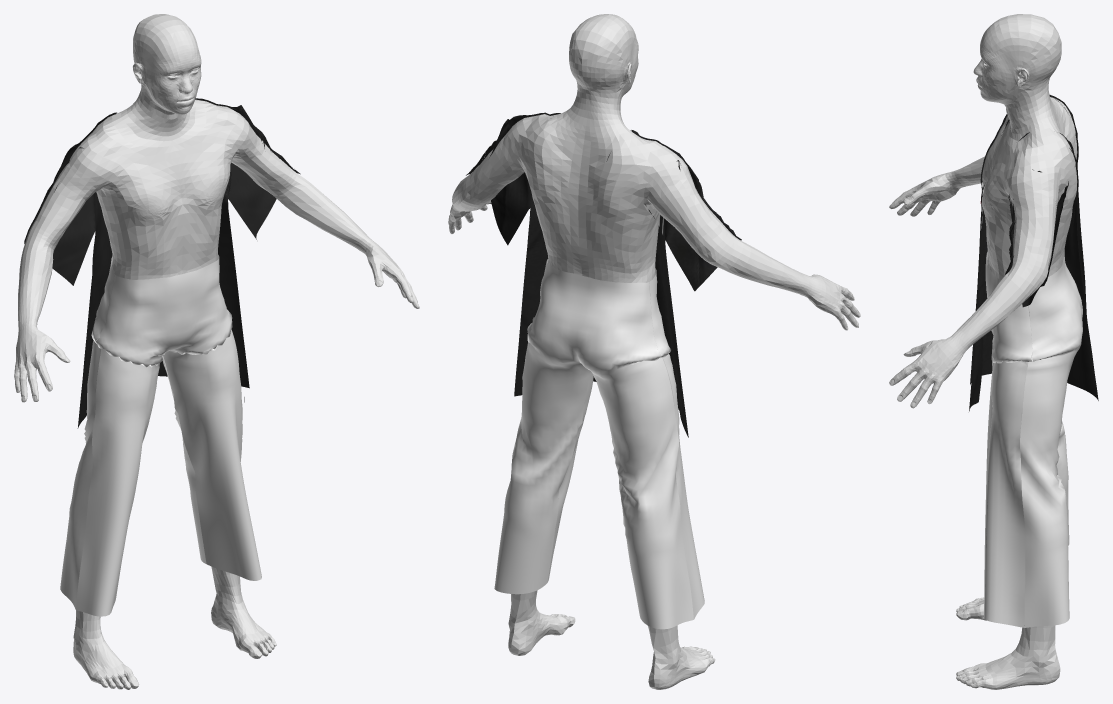
File: 1645943822693result.glb
3 views of the same model, side by side, from view 1: azimuth 30°, elevation 25°; view 2: azimuth 150°, elevation 25°; view 3: azimuth 270°, elevation 25° (orthographic).
Visible parts, largest first — view 1: makehuman_1.1-2021-12-29T14:18:15.898Z, Plane_Plane.003, top(black)_XL_Plane.007; view 2: Plane_Plane.003, makehuman_1.1-2021-12-29T14:18:15.898Z, top(black)_XL_Plane.007; view 3: makehuman_1.1-2021-12-29T14:18:15.898Z, Plane_Plane.003, top(black)_XL_Plane.007.
Boxes of the visible parts, left/top/right/bottom form: makehuman_1.1-2021-12-29T14:18:15.898Z: left=14, top=14, right=419, bottom=689; Plane_Plane.003: left=60, top=254, right=261, bottom=616; top(black)_XL_Plane.007: left=24, top=98, right=300, bottom=428; Plane_Plane.003: left=494, top=259, right=704, bottom=629; makehuman_1.1-2021-12-29T14:18:15.898Z: left=448, top=14, right=860, bottom=689; top(black)_XL_Plane.007: left=466, top=112, right=741, bottom=437; makehuman_1.1-2021-12-29T14:18:15.898Z: left=889, top=14, right=1077, bottom=689; Plane_Plane.003: left=984, top=249, right=1082, bottom=627; top(black)_XL_Plane.007: left=969, top=94, right=1098, bottom=411.
Size of the model in its own units: 11.33 by 17.3 by 5.2.
3 materials, 1 textured.
